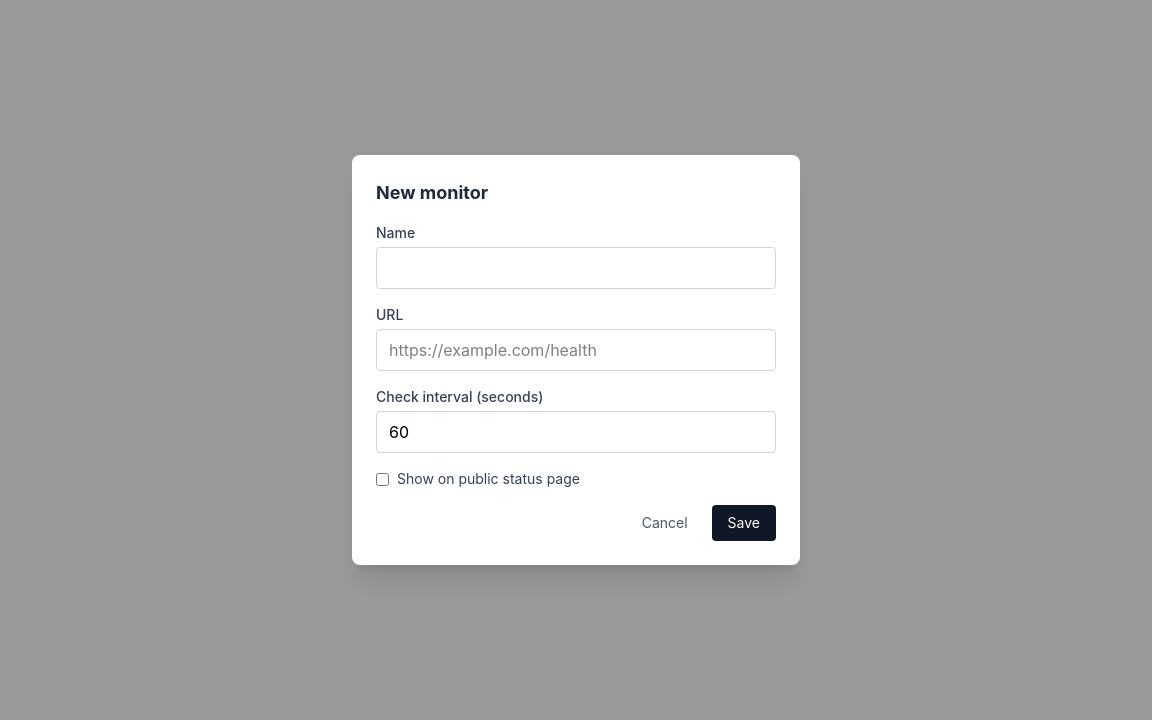
Scenario: MonitorFormModal › shows a validation error for an invalid URL
The width and height of the screenshot is (1152, 720).
Type "My API" into the field labelled "Name". click: (576, 268)
box: [376,247,776,289]
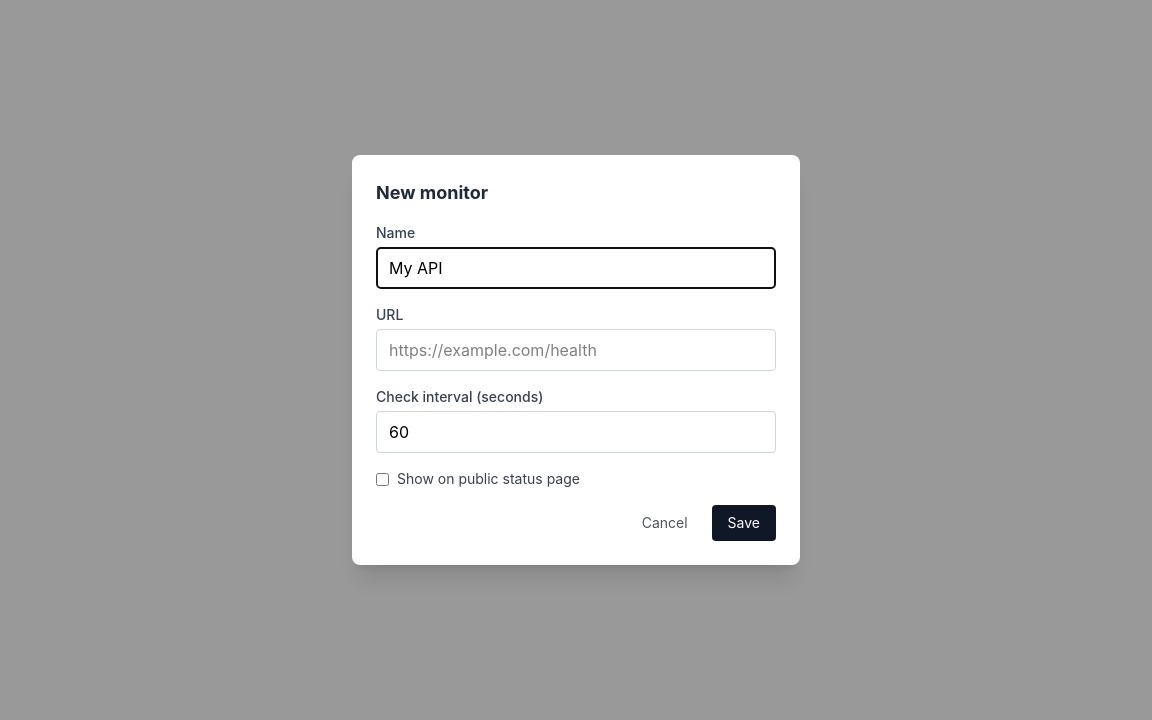
Type "not-a-url" into the field labelled "URL". click: (576, 350)
box: [376,329,776,371]
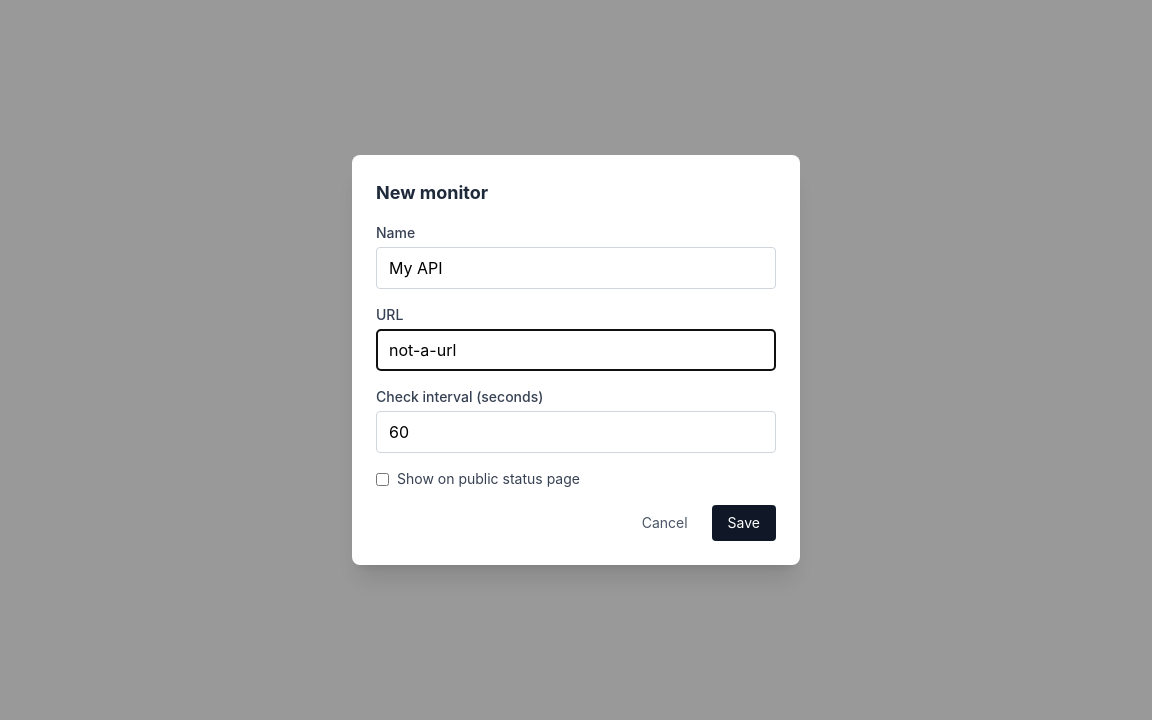
Click the button "Save". click: (744, 523)
box: [712,505,776,541]
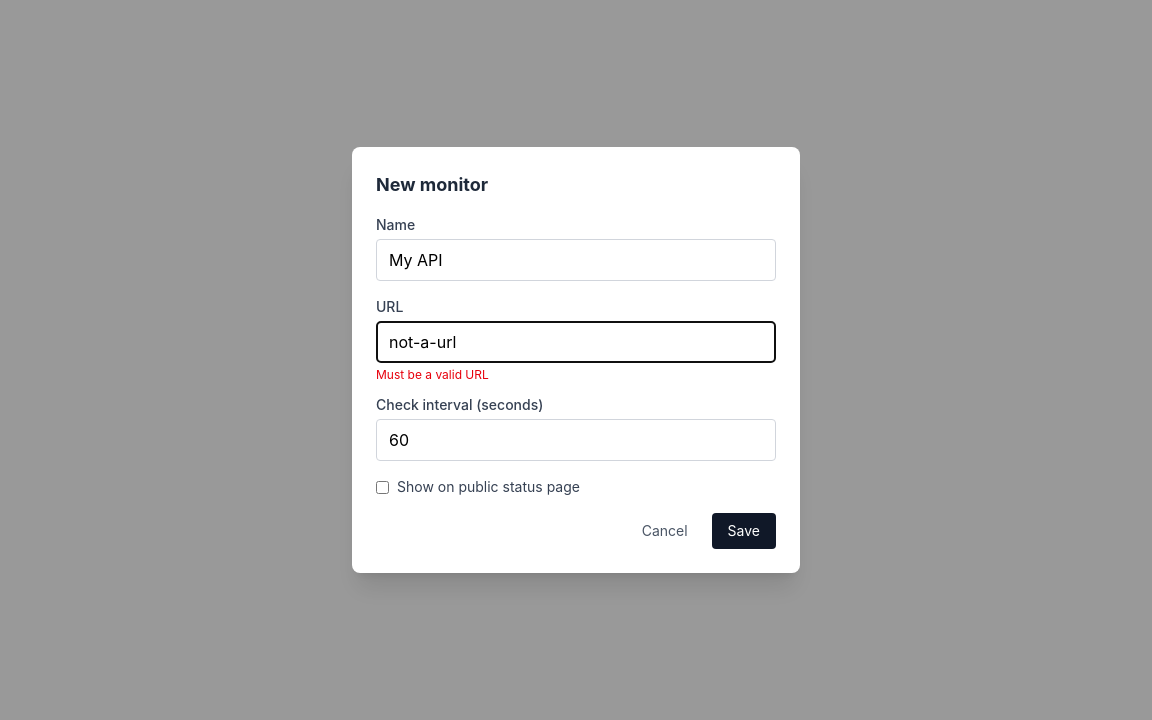
Now the text "Must be a valid URL" is shown, box [376,367,489,382]
